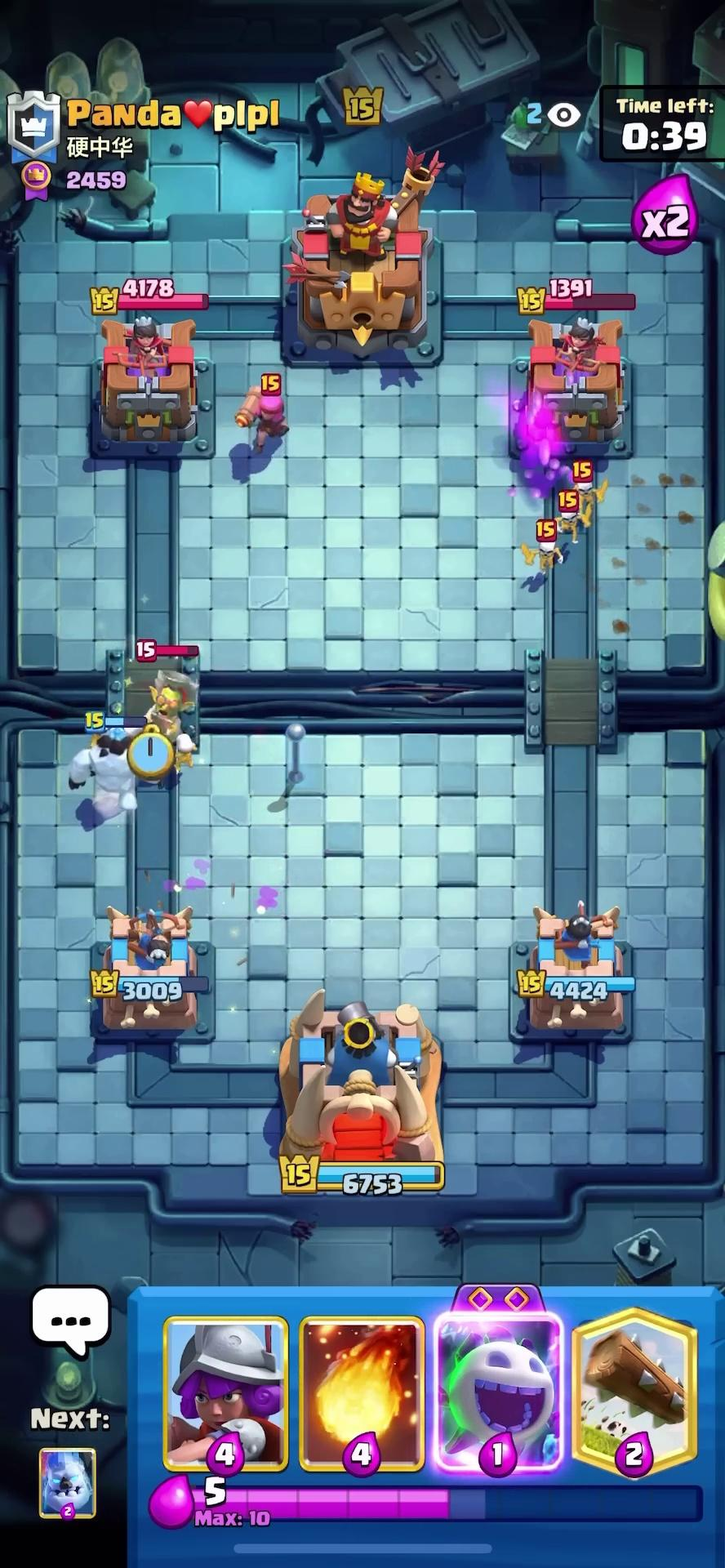ice_golem: (59, 706, 151, 815)
skeletons: (171, 725, 200, 764)
